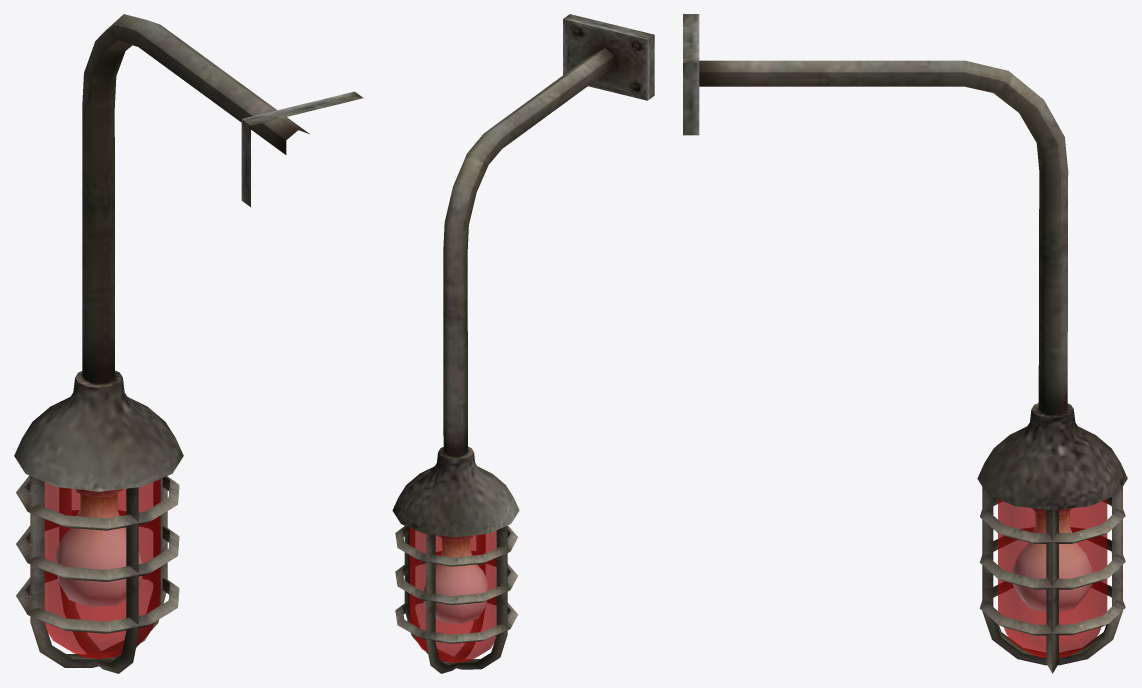
File: light_red1.glb
3 renders of one model, left to right at view 1: azimuth 30°, elevation 25°; view 2: azimuth 150°, elevation 25°; view 3: azimuth 270°, elevation 25°, orthographic. The views are drawn at different scales.
Parts seen in each view (by area): view 1: 0_light_red1, 1_light_red1_glass; view 2: 0_light_red1, 1_light_red1_glass; view 3: 0_light_red1, 1_light_red1_glass.
Boxes of the visible parts, <box> form: 0_light_red1: <box>14,14,363,673</box>; 1_light_red1_glass: <box>44,479,160,658</box>; 0_light_red1: <box>392,14,654,673</box>; 1_light_red1_glass: <box>409,528,496,662</box>; 0_light_red1: <box>683,14,1127,673</box>; 1_light_red1_glass: <box>998,499,1107,657</box>.
Bounding box in the file's own units: 0.1784 × 0.8198 × 0.5272.
2 materials, 2 textured.
